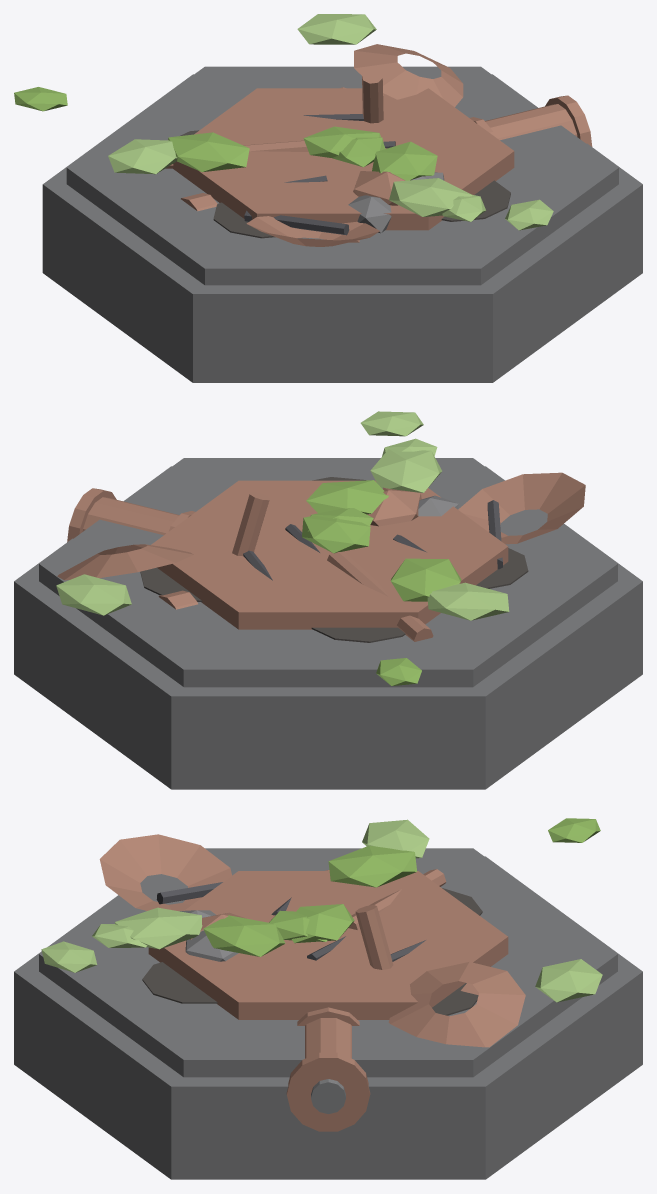
Rendered from control_projector_s2_ruin.glb.
3 views of the same model, one above another, from view 1: azimuth 30°, elevation 25°; view 2: azimuth 150°, elevation 25°; view 3: azimuth 270°, elevation 25° (orthographic). The views are drawn at different scales.
Visible parts, largest first — view 1: CP_Base; view 2: CP_Base; view 3: CP_Base.
Boxes of the visible parts, x1,y1,x2,y2 form: CP_Base: [14, 14, 642, 382]; CP_Base: [14, 411, 642, 789]; CP_Base: [14, 818, 642, 1179].
Bounding box in the file's own units: 1.74 × 0.6295 × 1.96.
